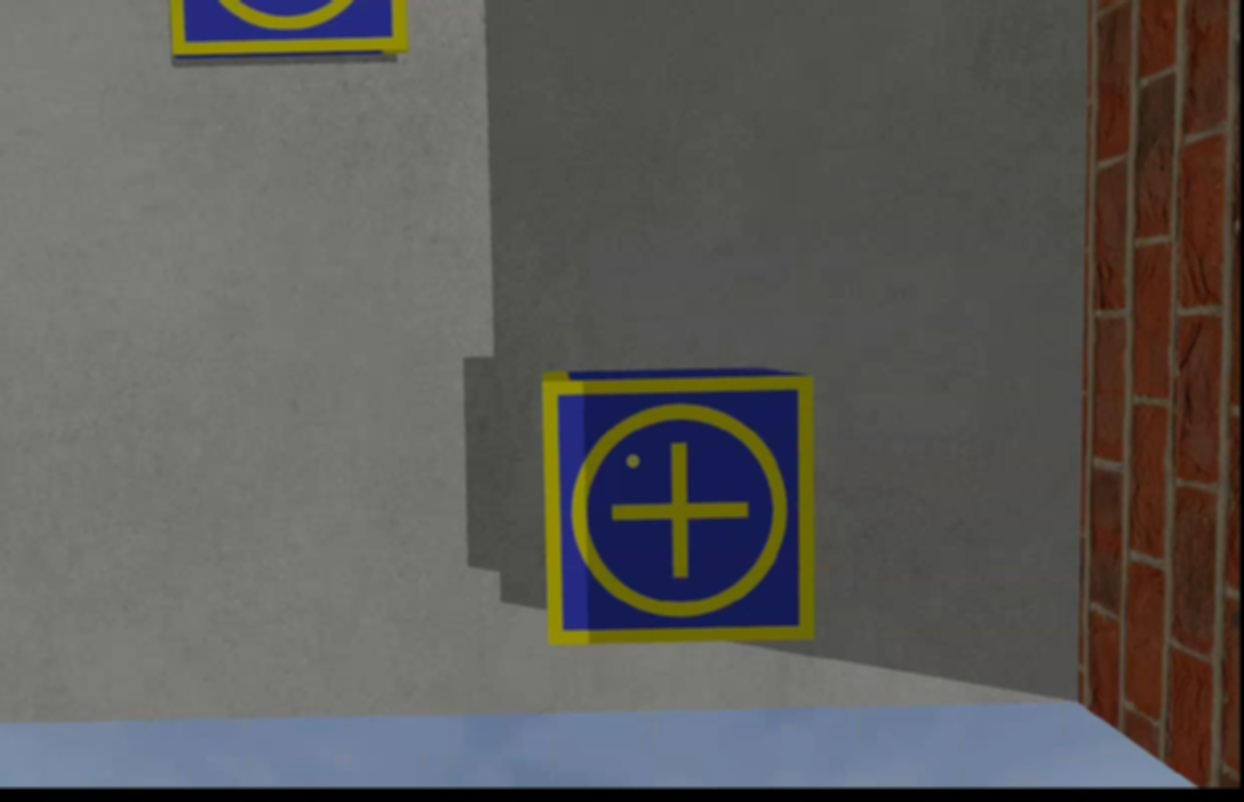small_base: (544, 378, 812, 650), (167, 1, 409, 60)
